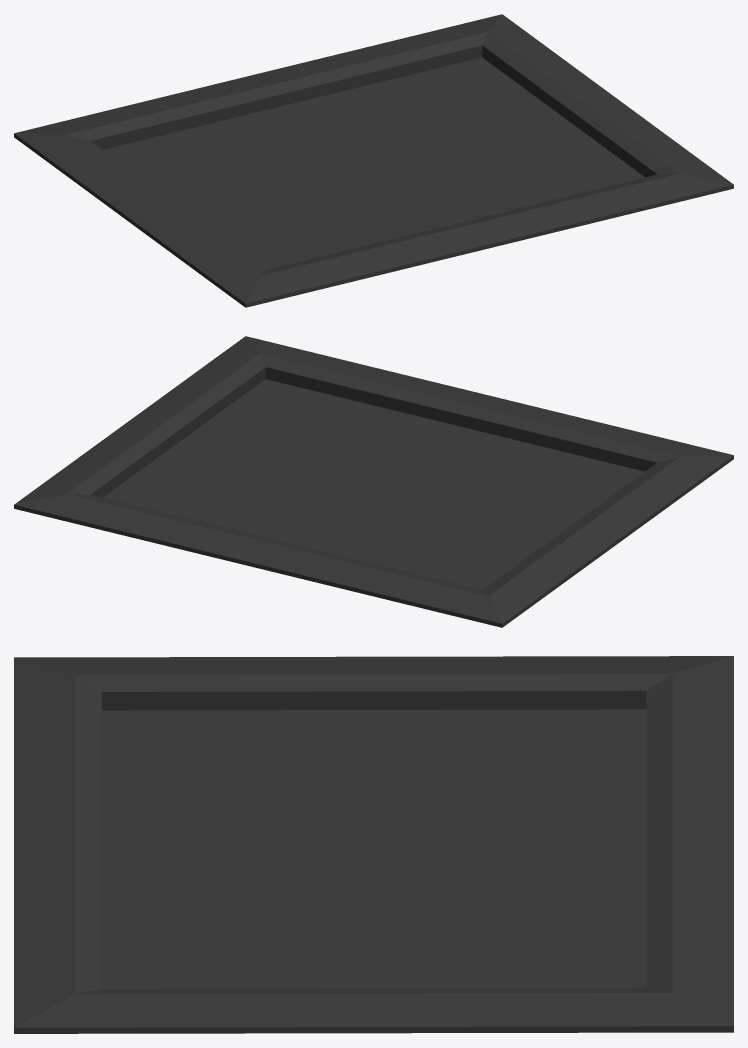
Rendered from Plate_1.fbx.
The picture shows the model from 3 angles, top to bottom: view 1: azimuth 30°, elevation 25°; view 2: azimuth 150°, elevation 25°; view 3: azimuth 270°, elevation 25°; orthographic projection. The views are drawn at different scales.
Visible parts, largest first — view 1: Plate_1; view 2: Plate_1; view 3: Plate_1.
Part boxes in pixels (left/top/right/bottom): Plate_1: left=14, top=14, right=733, bottom=307; Plate_1: left=14, top=336, right=733, bottom=627; Plate_1: left=14, top=656, right=733, bottom=1033.
Bounding box in the file's own units: 84.55 × 2.93 × 69.49.
